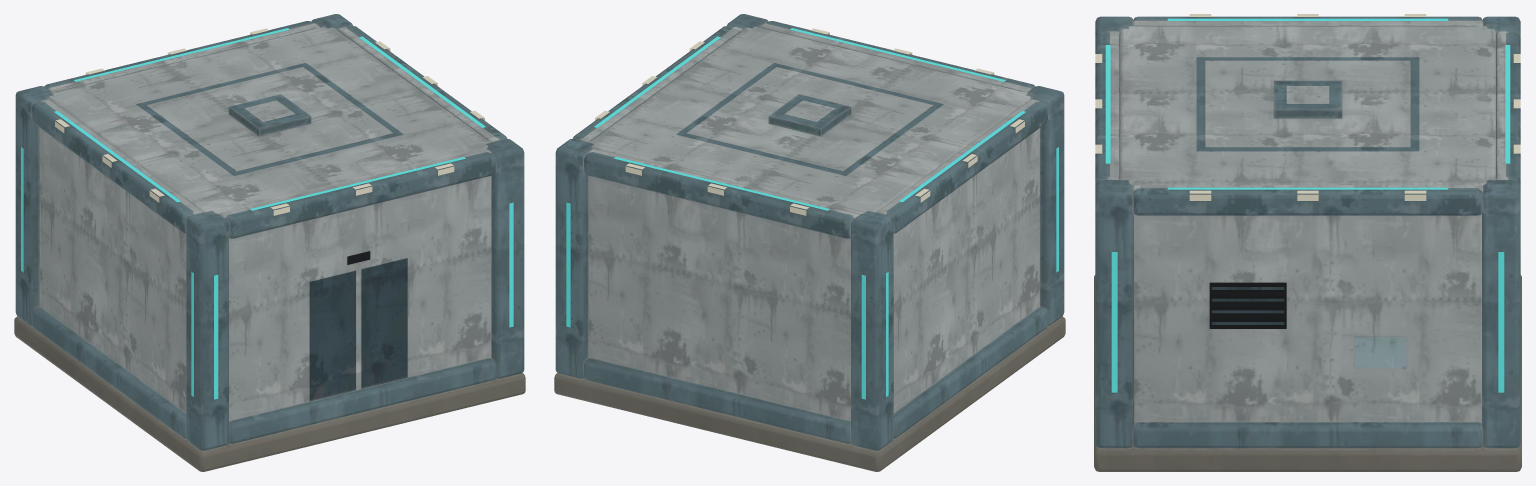
Rendered from hull_standard_closed.glb.
3 views of the same model, side by side, from view 1: azimuth 30°, elevation 25°; view 2: azimuth 150°, elevation 25°; view 3: azimuth 270°, elevation 25° (orthographic). The views are drawn at different scales.
Visible parts, largest first — view 1: te_hull_standard_closed; view 2: te_hull_standard_closed; view 3: te_hull_standard_closed.
Boxes of the visible parts, x1,y1,x2,y2 form: te_hull_standard_closed: (14,14,525,471); te_hull_standard_closed: (554,14,1065,471); te_hull_standard_closed: (1094,14,1521,471).
Bounding box in the file's own units: 1 × 0.7446 × 1.
1 material, 1 textured.
